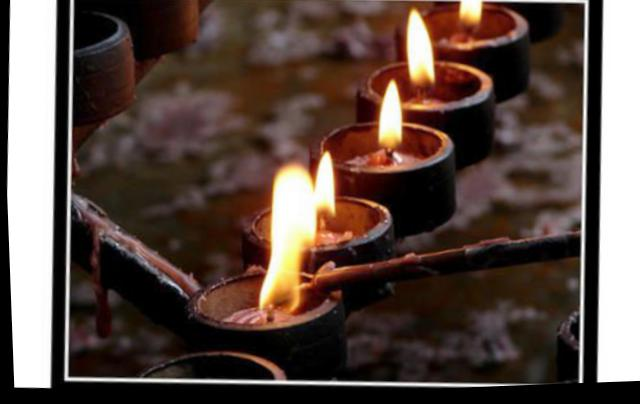fire: (252, 162, 323, 315), (405, 14, 440, 92), (374, 81, 409, 155), (311, 156, 339, 219), (460, 3, 487, 26)
